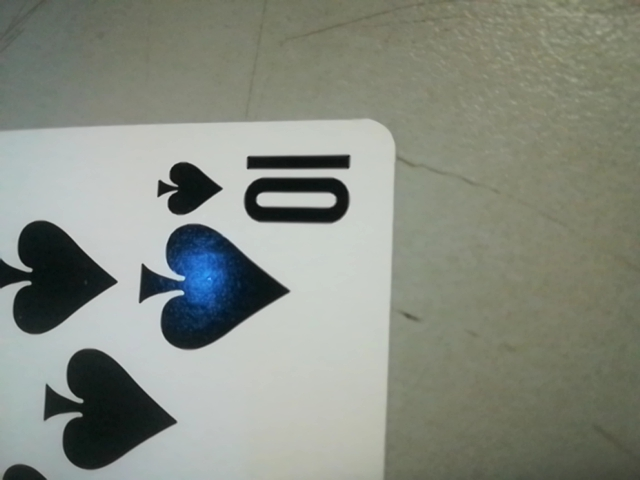ht 10: (159, 144, 365, 236)
